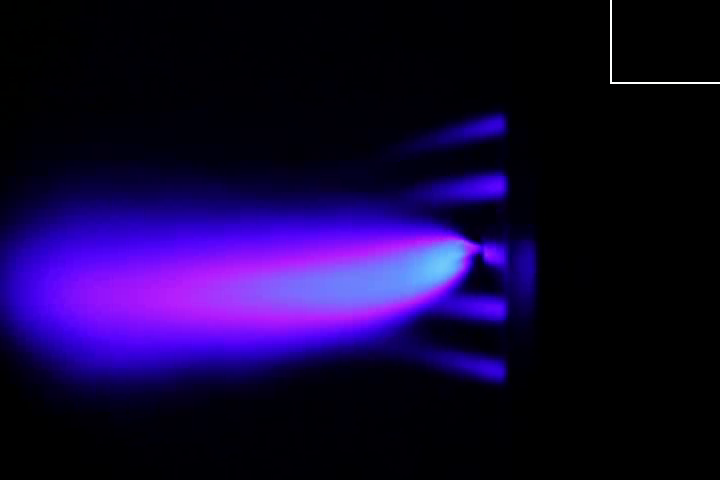burner cap: (482, 240, 508, 269)
pilot flame: (396, 338, 506, 386), (408, 108, 513, 156), (400, 170, 507, 202), (429, 293, 506, 322)
stable: (72, 233, 483, 316)
